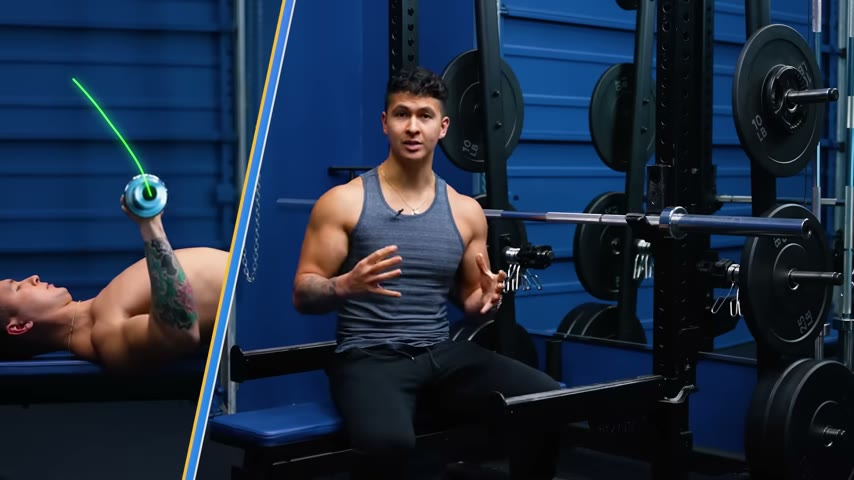barbell_plate_side: (727, 17, 800, 179)
